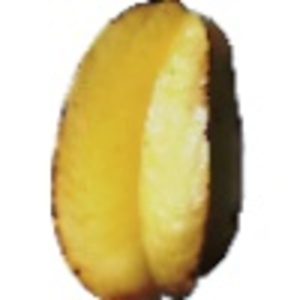carambola: (50, 1, 243, 300)
